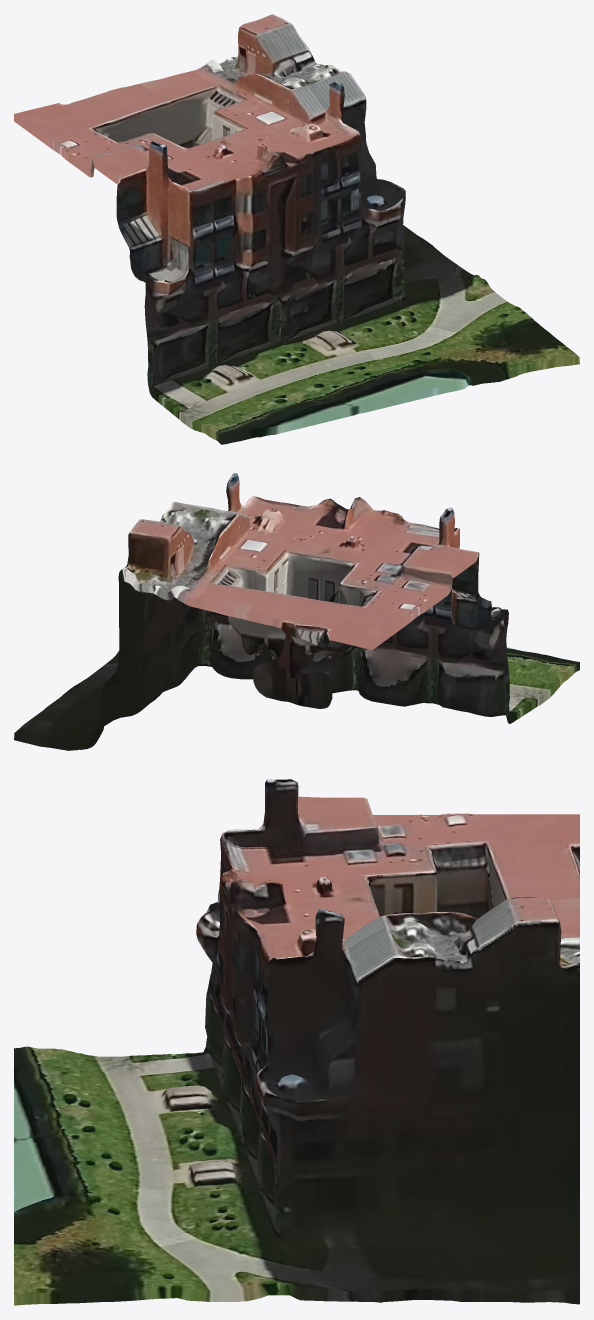
Rendered from z20-167779-405211-h0-yup-uvflip-v3-world.glb.
3 renders of one model, top to bottom at view 1: azimuth 30°, elevation 25°; view 2: azimuth 150°, elevation 25°; view 3: azimuth 270°, elevation 25°, orthographic. The views are drawn at different scales.
Size of the model in its own units: 30.2 by 18.6 by 30.32.
Materials: 1 (1 with a texture image).
